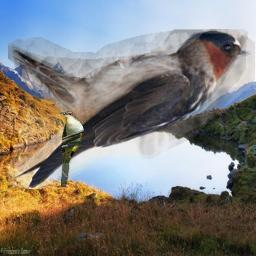Cuckoo: (59, 111, 84, 187)
Swallow: (8, 29, 255, 189)
